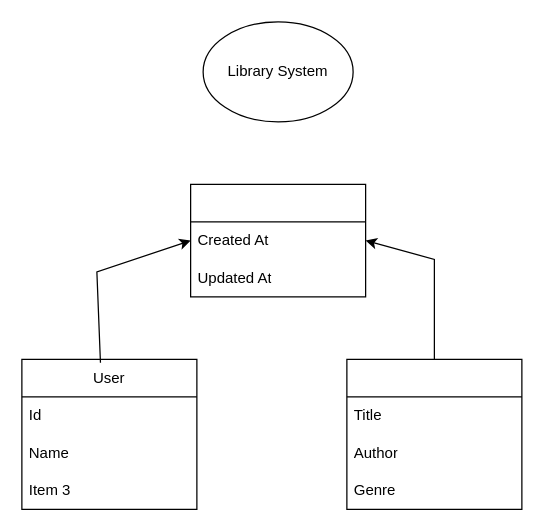
Image size: 544x531. Some labels were removed from this diagram. The shapes that lost their labels are listed below. From the top down, each one's box as (x1, y1, x2, y2) in pixels, then its label:
(189, 183, 366, 297): Base
(346, 358, 522, 509): Book
